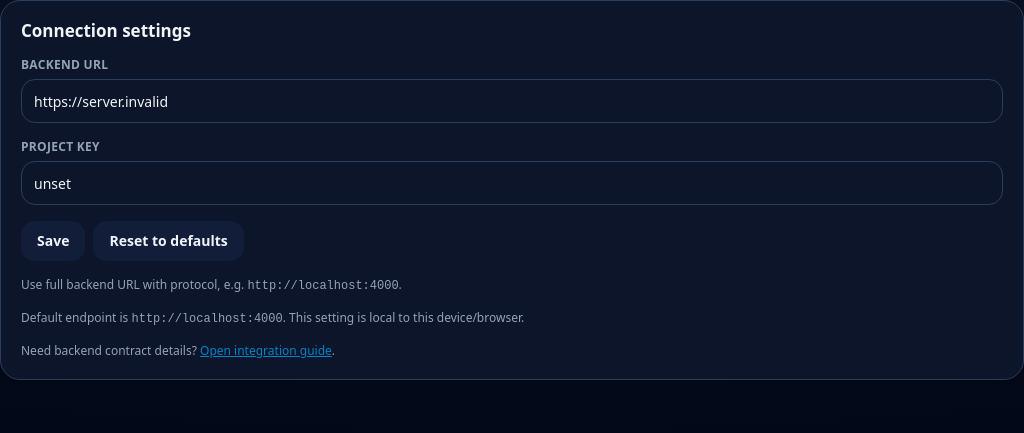
it: PublicConnectionSettingsPage › rejects unsupported protocols
Replace the text in the field labelled "Backend URL" with "ftp://backend.invalid" at (512, 101), box top-left (21, 79), bottom-right (1003, 123)
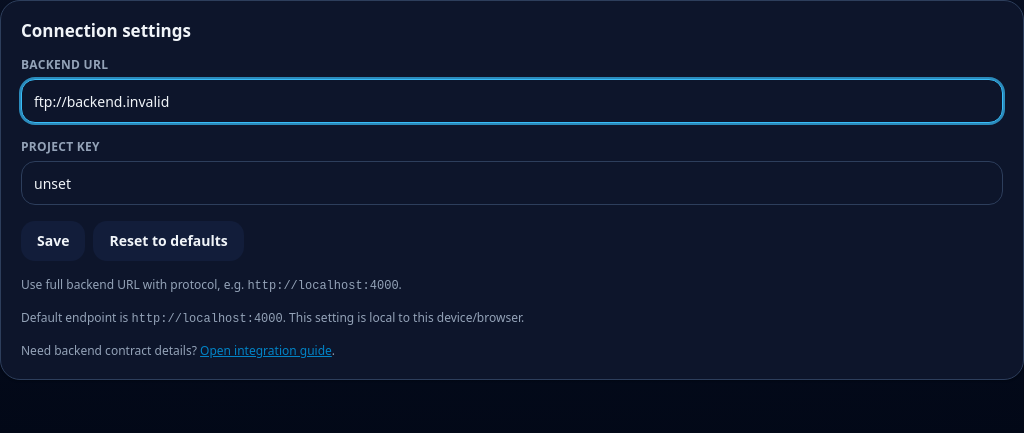
Click the button "Save" at (53, 241), box top-left (21, 221), bottom-right (85, 261)
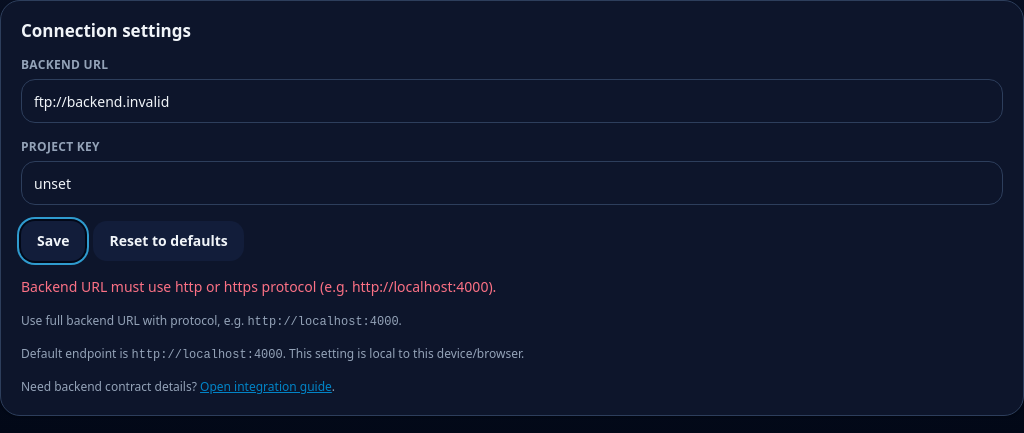
Check: the text "Backend URL must use http or https protocol (e.g. http://localhost:4000)." is shown, box top-left (21, 277), bottom-right (496, 296)
